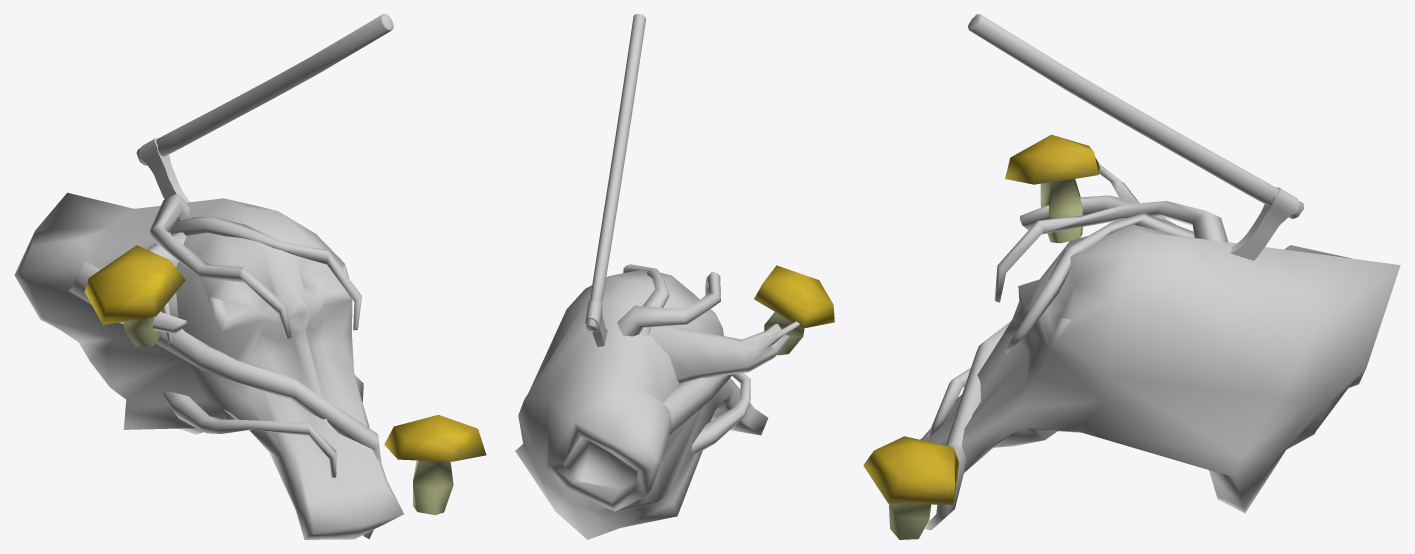
Rendered from AL_rune_bench_piece1.FBX.
The picture shows the model from 3 angles, left to right: view 1: azimuth 30°, elevation 25°; view 2: azimuth 150°, elevation 25°; view 3: azimuth 270°, elevation 25°; orthographic projection. The views are drawn at different scales.
Visible parts, largest first — view 1: prop_rune_bench_piece01; view 2: prop_rune_bench_piece01; view 3: prop_rune_bench_piece01.
Boxes of the visible parts, x1,y1,x2,y2 form: prop_rune_bench_piece01: (14, 14, 486, 539); prop_rune_bench_piece01: (515, 14, 834, 539); prop_rune_bench_piece01: (863, 14, 1400, 539).
Bounding box in the file's own units: 99.92 × 152 × 138.
